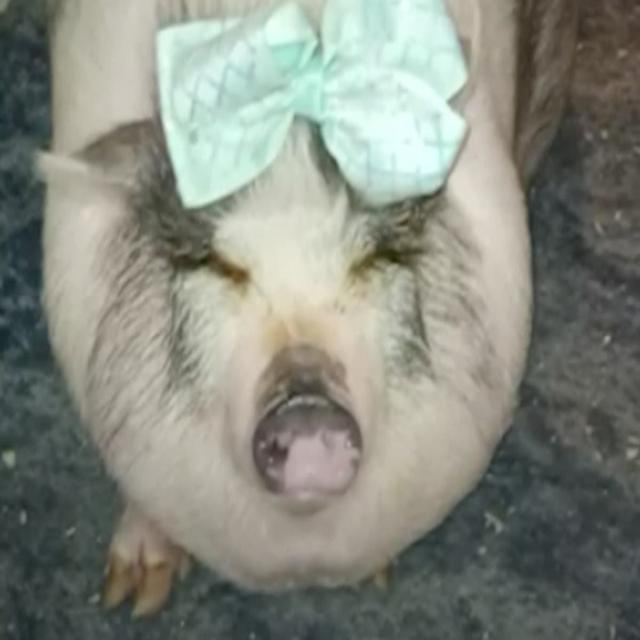Pig: (31, 4, 547, 618)
